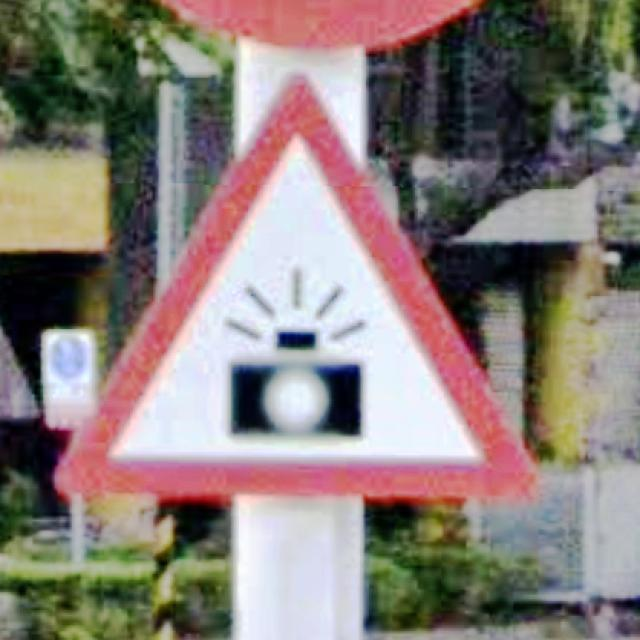speedcamera: (58, 72, 544, 502)
